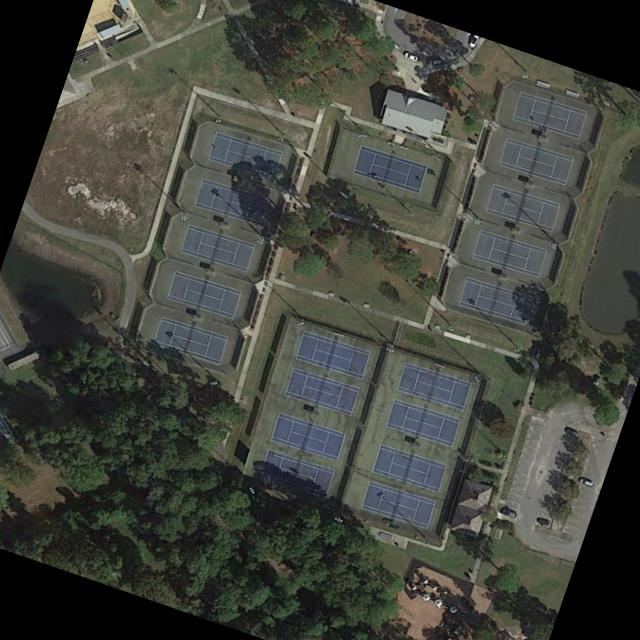small-vehicle: (385, 38, 400, 52), (498, 507, 514, 517), (402, 51, 417, 61), (577, 478, 593, 487), (534, 518, 549, 526), (431, 60, 441, 65)
